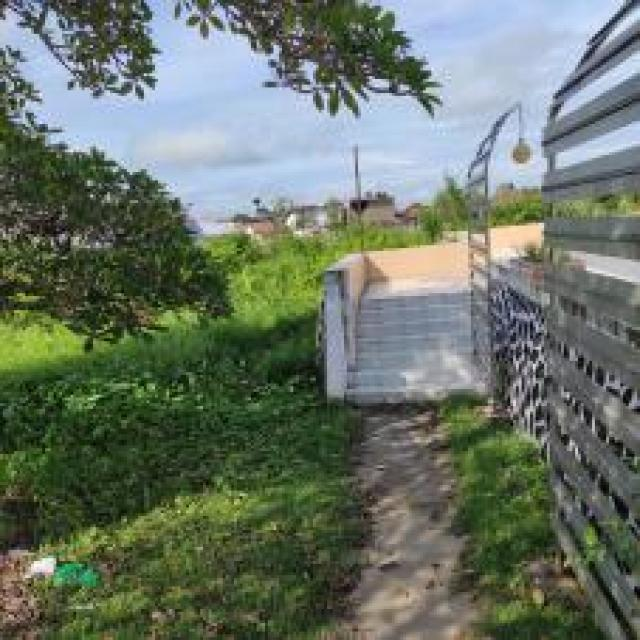upstair: (357, 291, 478, 410)
